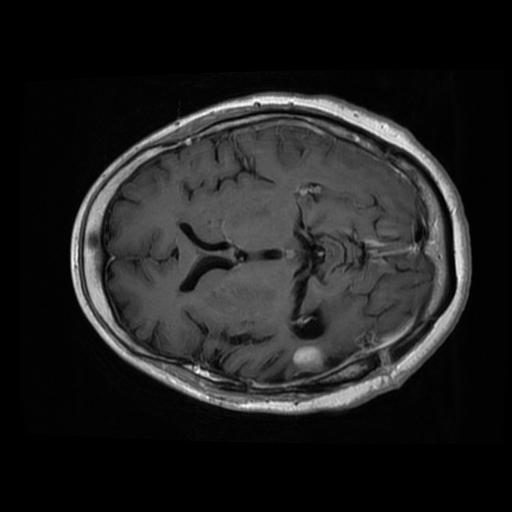glioma: (289, 343, 325, 373)
